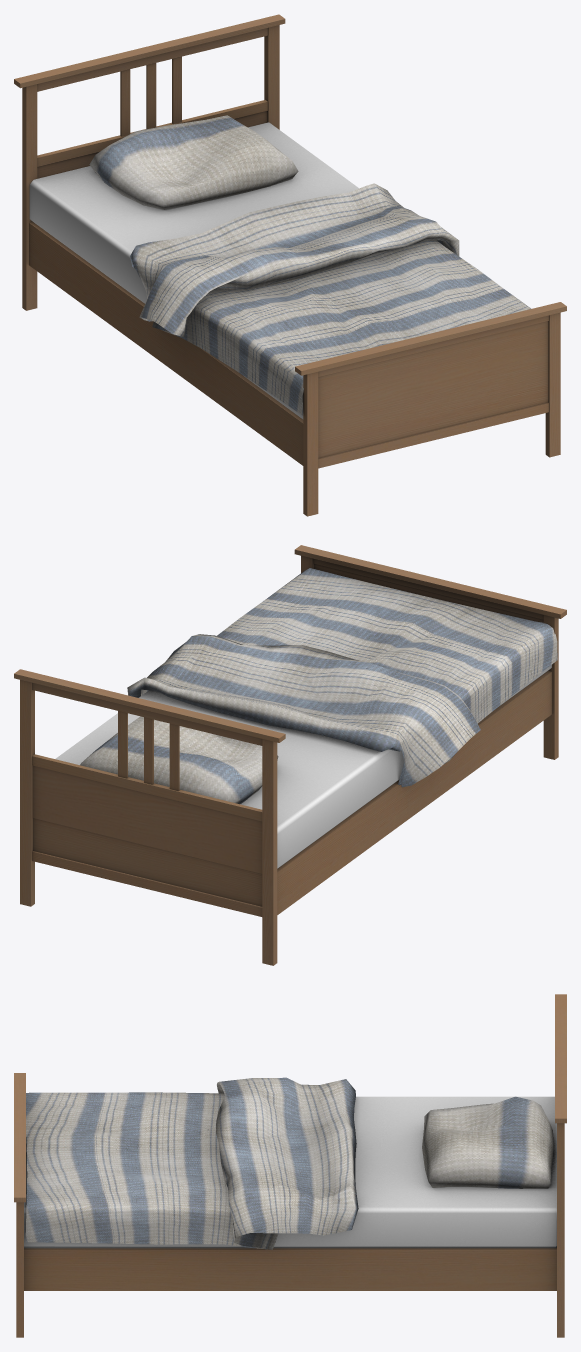
Rendered from singleBedMessy.fbx.
The picture shows the model from 3 angles, top to bottom: view 1: azimuth 30°, elevation 25°; view 2: azimuth 150°, elevation 25°; view 3: azimuth 270°, elevation 25°; orthographic projection. The views are drawn at different scales.
Parts seen in each view (by area): view 1: bedMessy; view 2: bedMessy; view 3: bedMessy.
Boxes of the visible parts, <box> form: bedMessy: <box>14,14,566,516</box>; bedMessy: <box>14,545,566,965</box>; bedMessy: <box>14,994,566,1337</box>.
Bounding box in the file's own units: 2.09 × 1.54 × 3.48.
1 material, 1 textured.
